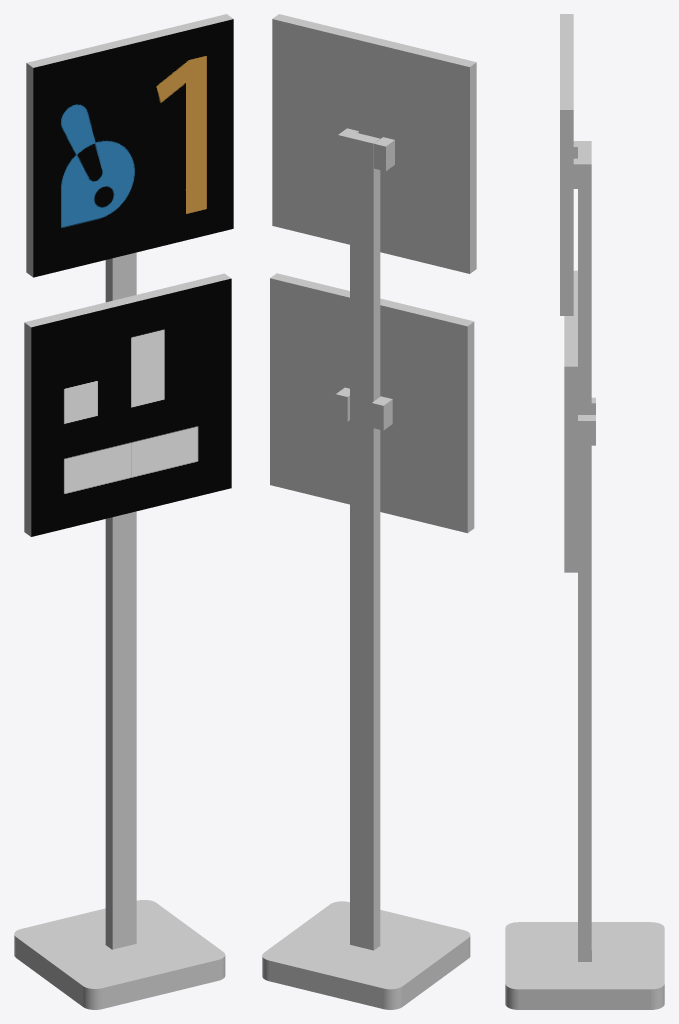
File: uno_aruco.dae
3 renders of one model, left to right at view 1: azimuth 30°, elevation 25°; view 2: azimuth 150°, elevation 25°; view 3: azimuth 270°, elevation 25°, orthographic.
Visible parts, largest first — view 1: afc36f1e-7924-401f-927a-71241910eee8, aa0f72c8-572c-480a-895d-d548e58999b3, ae0c5e46-0dfd-4476-844a-e16296bca3e9, a65d3846-86d6-48c3-9046-bb552e3498c6, d5952d5c-5f7a-4ce6-bbdb-faf44fbd9d76, acb37ba4-6c39-4e3d-88aa-c40af6b0f1d1, bab591d5-43ad-4bf6-a1c9-656e8f3e946f, ac7943ec-6fed-4895-9f17-72c14bf4ff31; view 2: a18acdb5-c4f5-47c5-a6c6-218b91b52f59, d4fa9b63-84a4-43ec-8918-96fe521d9b79, ae0c5e46-0dfd-4476-844a-e16296bca3e9, a65d3846-86d6-48c3-9046-bb552e3498c6, acb37ba4-6c39-4e3d-88aa-c40af6b0f1d1, bab591d5-43ad-4bf6-a1c9-656e8f3e946f, d5952d5c-5f7a-4ce6-bbdb-faf44fbd9d76, ac7943ec-6fed-4895-9f17-72c14bf4ff31, af7834e9-6659-4461-ae8b-aa74a48ece72, a59ab89a-2849-4bf0-83e6-89dbbd4def39; view 3: a65d3846-86d6-48c3-9046-bb552e3498c6, ae0c5e46-0dfd-4476-844a-e16296bca3e9, ebeaba61-c021-4e2b-bcdc-611734534227, a03cade7-7099-4a86-97eb-7027da3a5842, bab591d5-43ad-4bf6-a1c9-656e8f3e946f, ac7943ec-6fed-4895-9f17-72c14bf4ff31, ada8b3be-1c91-4a8e-aad1-07bf33e615e8, af6de542-ce43-41be-9e6d-1cfc71e9424b.
Part boxes in pixels (box(x1,y1,x2,y2)): afc36f1e-7924-401f-927a-71241910eee8: box(31, 278, 231, 536); aa0f72c8-572c-480a-895d-d548e58999b3: box(33, 19, 233, 277); ae0c5e46-0dfd-4476-844a-e16296bca3e9: box(105, 252, 136, 949); a65d3846-86d6-48c3-9046-bb552e3498c6: box(14, 900, 225, 1009); d5952d5c-5f7a-4ce6-bbdb-faf44fbd9d76: box(26, 63, 33, 276); acb37ba4-6c39-4e3d-88aa-c40af6b0f1d1: box(24, 322, 31, 536); bab591d5-43ad-4bf6-a1c9-656e8f3e946f: box(27, 14, 232, 67); ac7943ec-6fed-4895-9f17-72c14bf4ff31: box(24, 273, 230, 327); a18acdb5-c4f5-47c5-a6c6-218b91b52f59: box(272, 19, 469, 273); d4fa9b63-84a4-43ec-8918-96fe521d9b79: box(270, 278, 467, 533); ae0c5e46-0dfd-4476-844a-e16296bca3e9: box(350, 133, 380, 950); a65d3846-86d6-48c3-9046-bb552e3498c6: box(262, 901, 470, 1009); acb37ba4-6c39-4e3d-88aa-c40af6b0f1d1: box(467, 322, 474, 532); bab591d5-43ad-4bf6-a1c9-656e8f3e946f: box(272, 14, 476, 66); d5952d5c-5f7a-4ce6-bbdb-faf44fbd9d76: box(470, 62, 476, 273); ac7943ec-6fed-4895-9f17-72c14bf4ff31: box(270, 273, 473, 326); af7834e9-6659-4461-ae8b-aa74a48ece72: box(371, 396, 392, 430); a59ab89a-2849-4bf0-83e6-89dbbd4def39: box(374, 137, 394, 171); a65d3846-86d6-48c3-9046-bb552e3498c6: box(505, 922, 664, 1009); ae0c5e46-0dfd-4476-844a-e16296bca3e9: box(578, 147, 591, 961); ebeaba61-c021-4e2b-bcdc-611734534227: box(564, 366, 577, 572); a03cade7-7099-4a86-97eb-7027da3a5842: box(560, 110, 573, 315); bab591d5-43ad-4bf6-a1c9-656e8f3e946f: box(560, 14, 573, 109); ac7943ec-6fed-4895-9f17-72c14bf4ff31: box(564, 270, 577, 366); ada8b3be-1c91-4a8e-aad1-07bf33e615e8: box(573, 158, 591, 188); af6de542-ce43-41be-9e6d-1cfc71e9424b: box(578, 415, 595, 445).
Size of the model in its own units: 0.05 by 0.035 by 0.222.
Materials: 2 (2 with a texture image).
